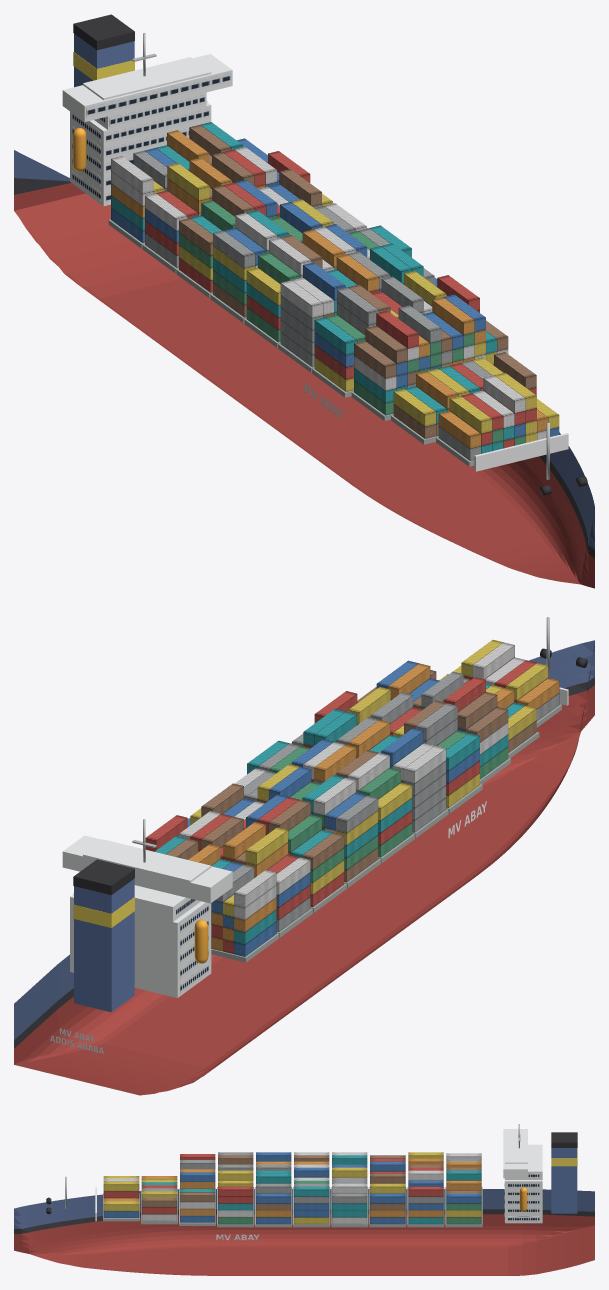
The model's file is container_ship.glb.
3 views of the same model, one above another, from view 1: azimuth 30°, elevation 25°; view 2: azimuth 150°, elevation 25°; view 3: azimuth 270°, elevation 25° (orthographic). The views are drawn at different scales.
Parts seen in each view (by area): view 1: Ship; view 2: Ship, Names; view 3: Ship.
Boxes of the visible parts, x1,y1,x2,y2 form: Ship: [14, 14, 594, 588]; Ship: [14, 617, 594, 1095]; Names: [50, 801, 486, 1054]; Ship: [14, 1124, 594, 1275].
Bounding box in the file's own units: 33 × 52 × 200.
22 materials, 12 textured.
